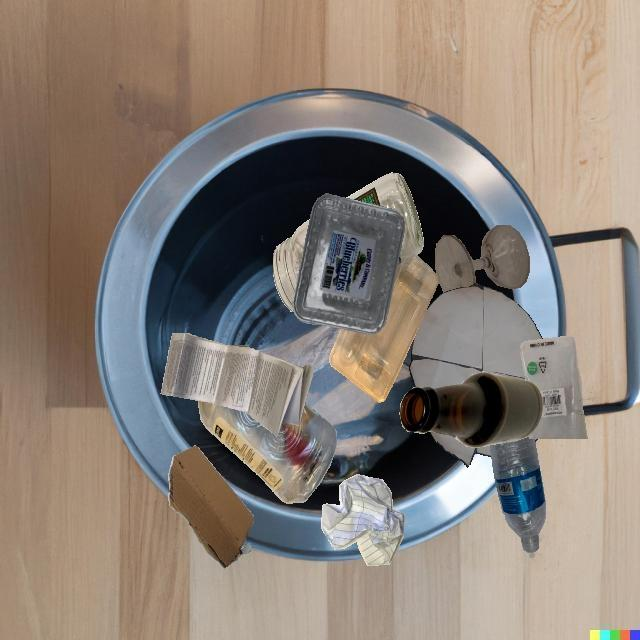cardboard: (168, 445, 254, 569)
glass: (399, 372, 543, 448), (346, 173, 424, 266), (435, 225, 530, 293), (273, 219, 310, 312)
paper: (161, 333, 314, 436), (409, 283, 542, 388), (322, 474, 404, 566), (477, 341, 535, 451)
plastic: (329, 255, 438, 403), (292, 193, 405, 334), (198, 400, 337, 503), (520, 336, 587, 439), (490, 436, 546, 552)
